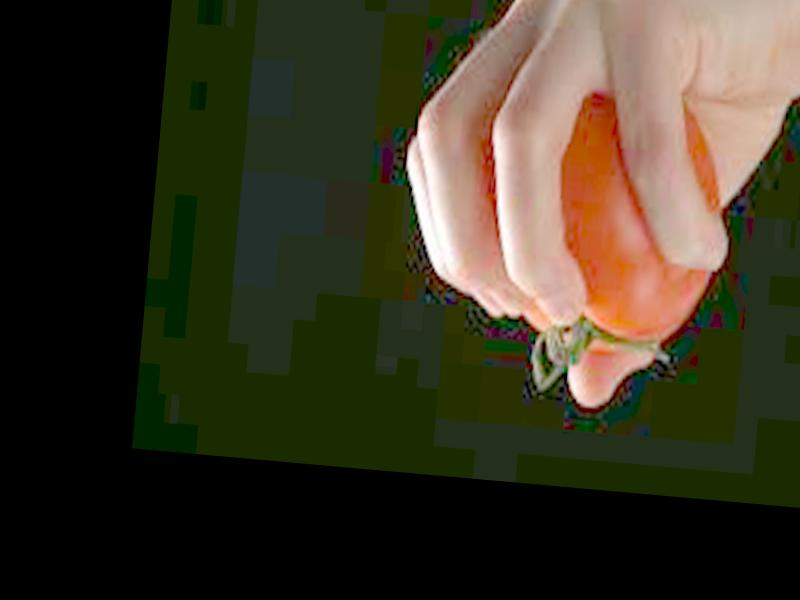Tomato: (518, 79, 730, 348)
